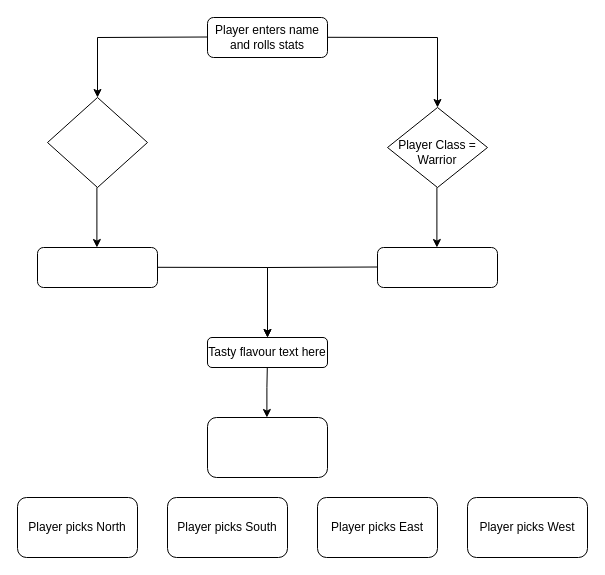
The diagram is 605 pixels wide and 575 high, and some of its shapes have lost their labels. Here are the shapes that lost their labels. From the top down, the centre of each, then its label:
point (97, 142): Player Class = Mage
point (97, 267): Staff and Thunderbolt
point (437, 267): Saber and True Strike
point (267, 447): "Good morning Captain! Where shall we sail?"
